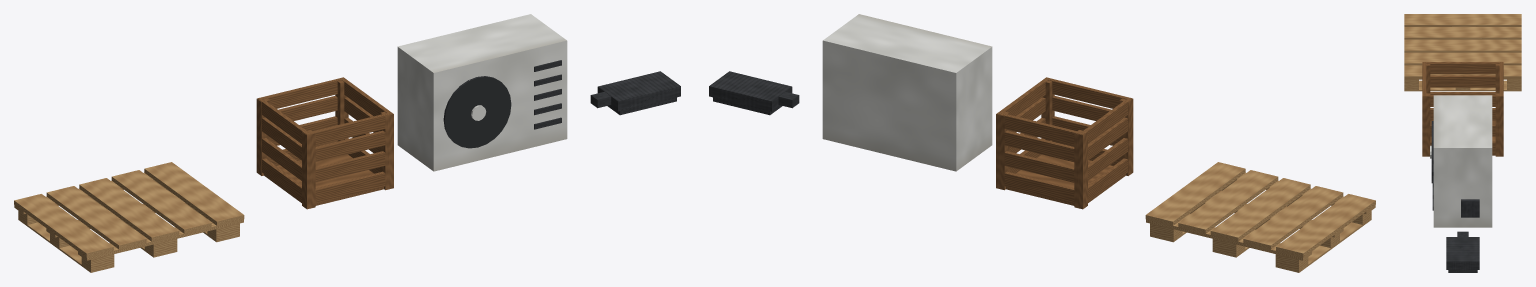
The model's file is kebap_backyard.fbx.
3 renders of one model, left to right at view 1: azimuth 30°, elevation 25°; view 2: azimuth 150°, elevation 25°; view 3: azimuth 270°, elevation 25°, orthographic. The views are drawn at different scales.
Parts seen in each view (by area): view 1: ACUnit, Pallet, Crate, LampHead; view 2: ACUnit, Pallet, Crate, LampHead; view 3: ACUnit, Pallet, Crate, LampHead.
Part boxes in pixels (left/top/right/bottom): ACUnit: left=397, top=14, right=567, bottom=171; Pallet: left=14, top=162, right=244, bottom=272; Crate: left=256, top=77, right=393, bottom=209; LampHead: left=590, top=71, right=680, bottom=115; ACUnit: left=822, top=14, right=992, bottom=171; Pallet: left=1145, top=162, right=1375, bottom=272; Crate: left=996, top=77, right=1133, bottom=209; LampHead: left=709, top=71, right=799, bottom=115; ACUnit: left=1430, top=95, right=1492, bottom=227; Pallet: left=1404, top=14, right=1521, bottom=91; Crate: left=1422, top=62, right=1503, bottom=156; LampHead: left=1446, top=231, right=1479, bottom=272.
Bounding box in the file's own units: 1581 × 240 × 320.
1 material, 1 textured.
